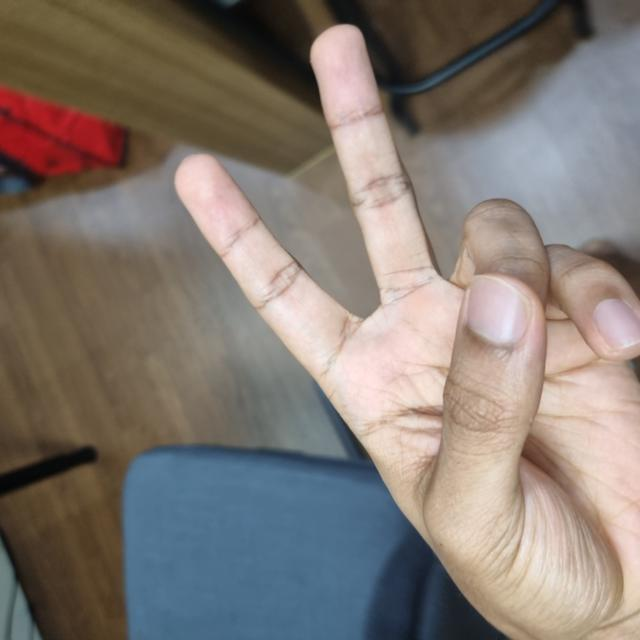Scissors: (11, 179, 611, 640)
